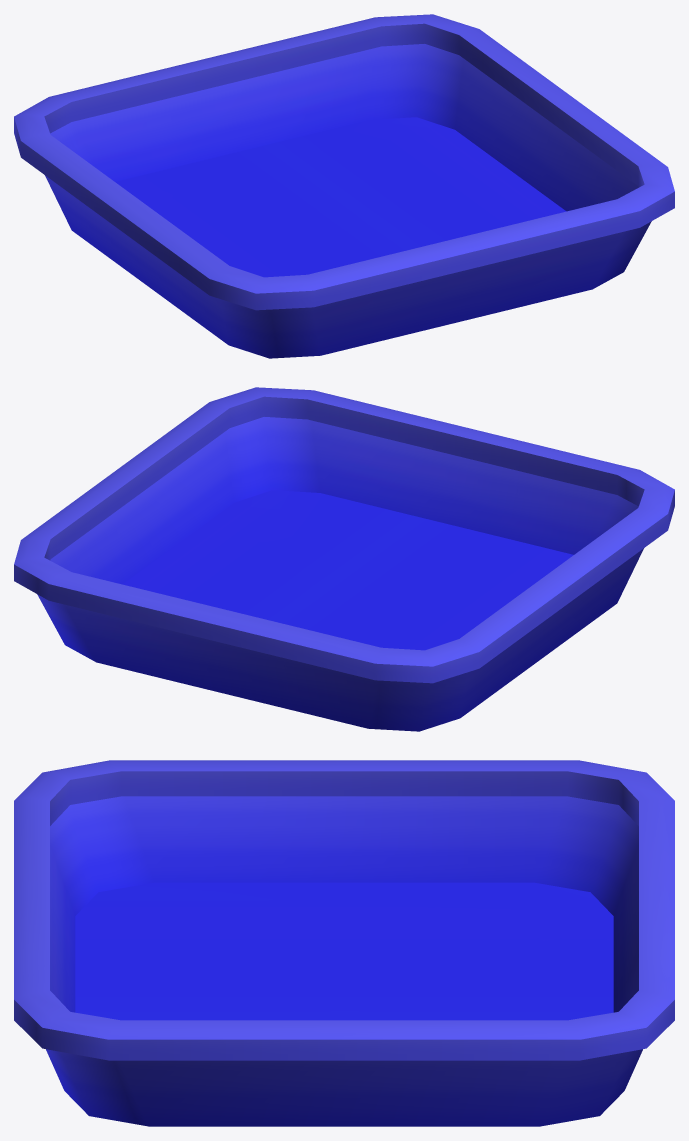
Rendered from Basket_head.fbx.
The picture shows the model from 3 angles, top to bottom: view 1: azimuth 30°, elevation 25°; view 2: azimuth 150°, elevation 25°; view 3: azimuth 270°, elevation 25°; orthographic projection. The views are drawn at different scales.
Parts seen in each view (by area): view 1: Basket; view 2: Basket; view 3: Basket.
Part boxes in pixels (x1,y1,x2,y2): Basket: (14,14,674,358); Basket: (14,387,674,731); Basket: (14,760,674,1126).
Size of the model in its own units: 53.59 by 10.04 by 53.59.
